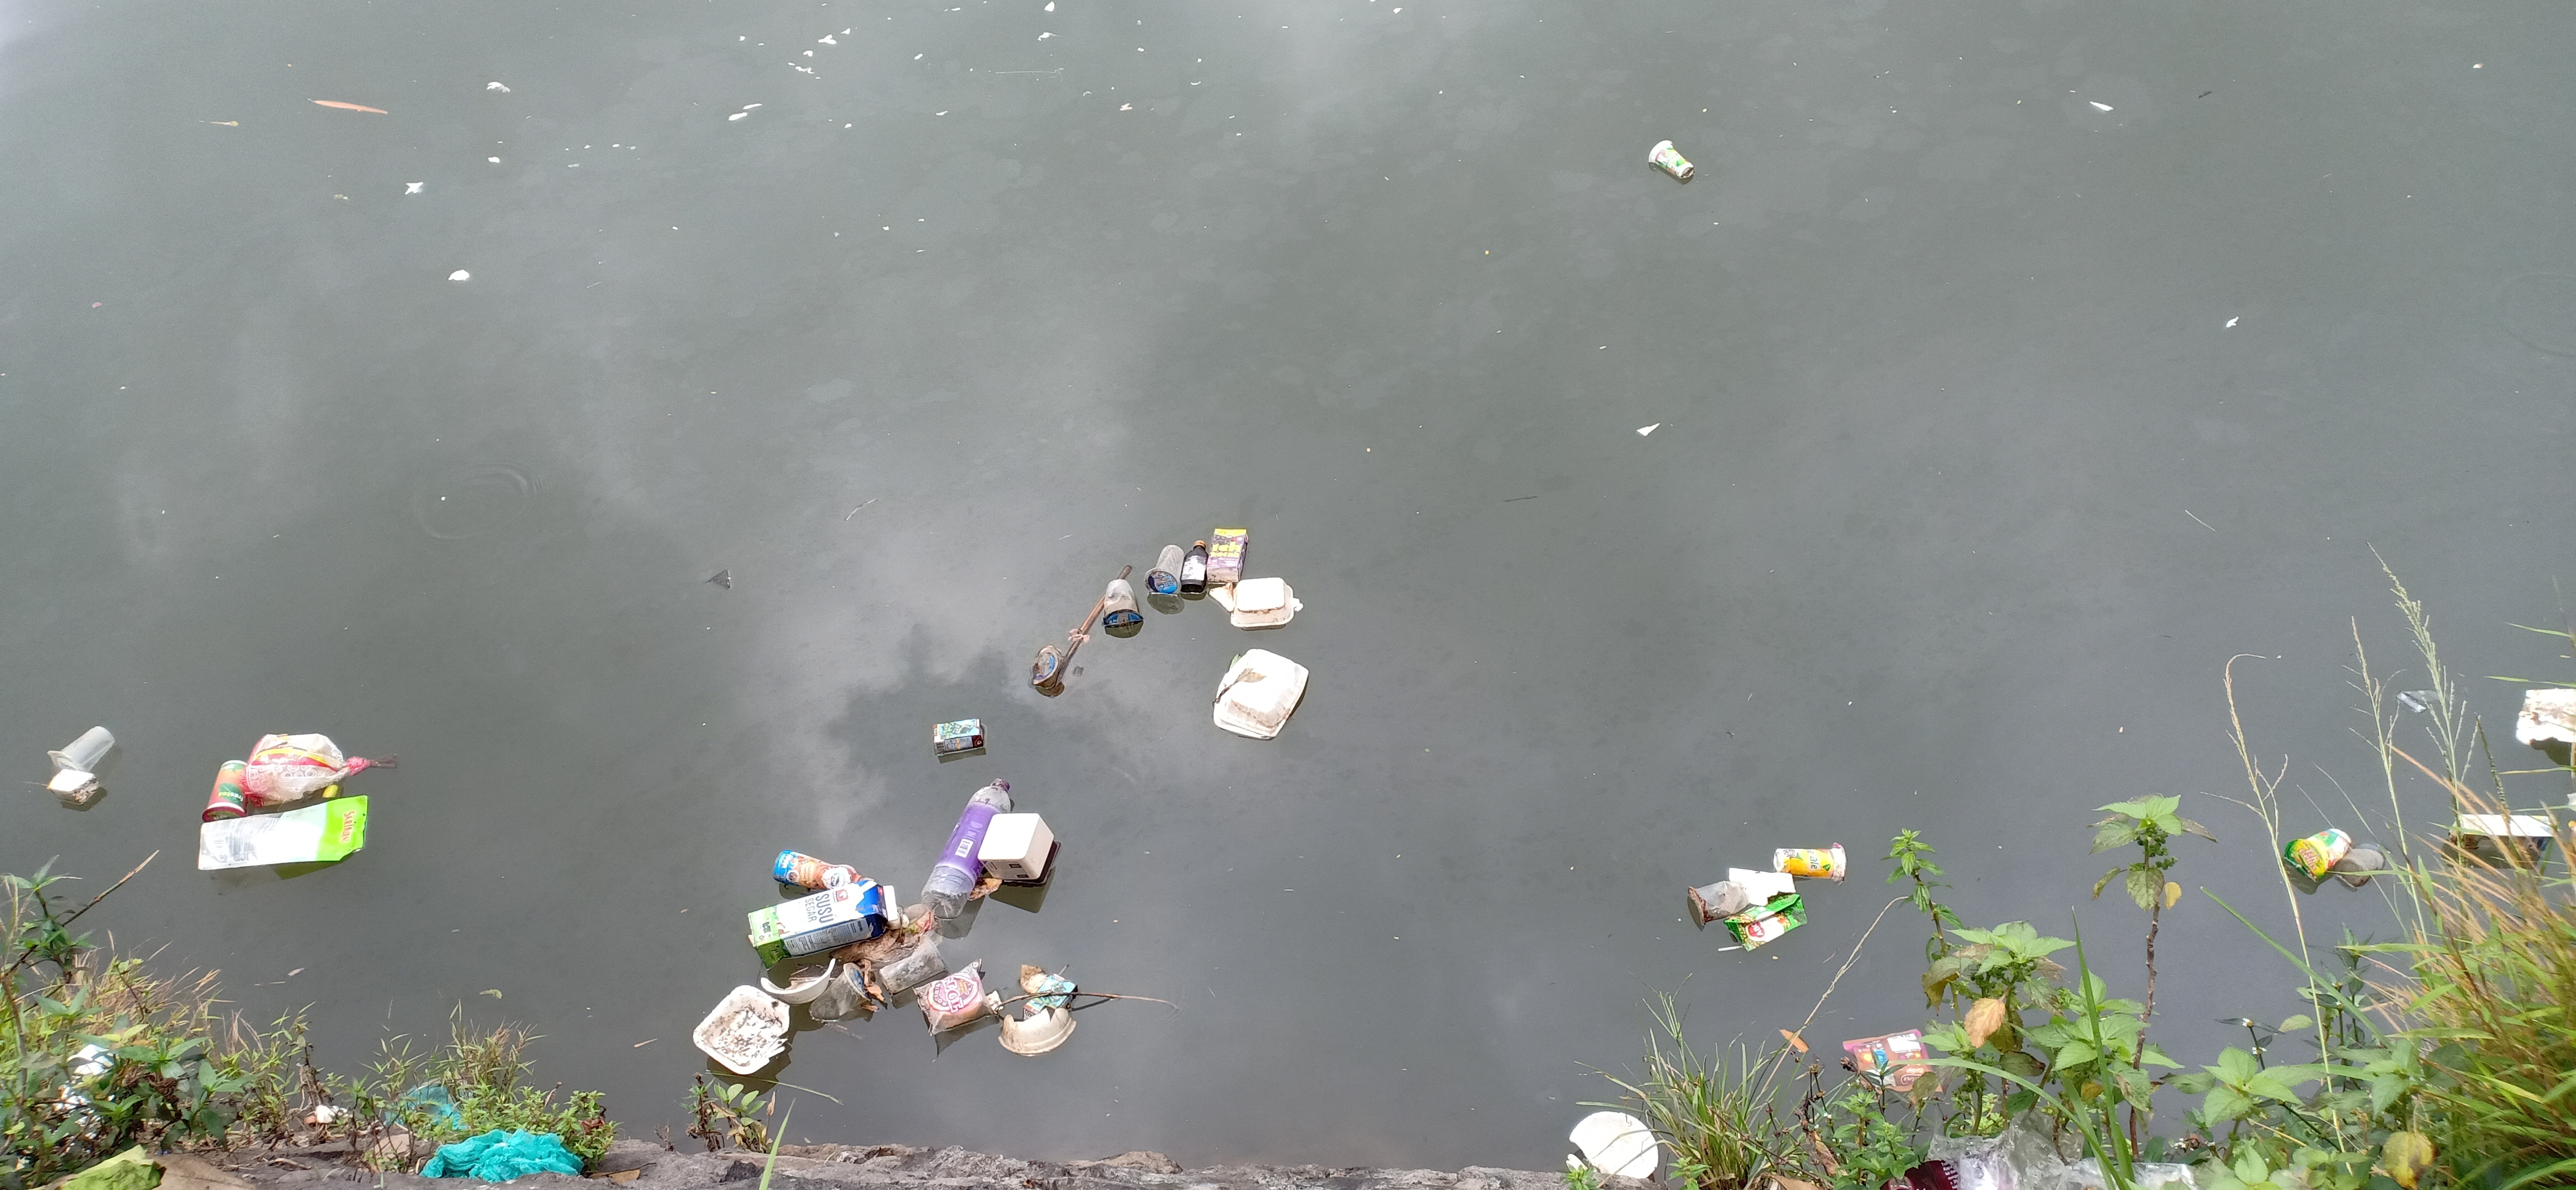Plastic Bottle: (922, 777, 1010, 920), (772, 850, 874, 889), (1180, 539, 1209, 592)
